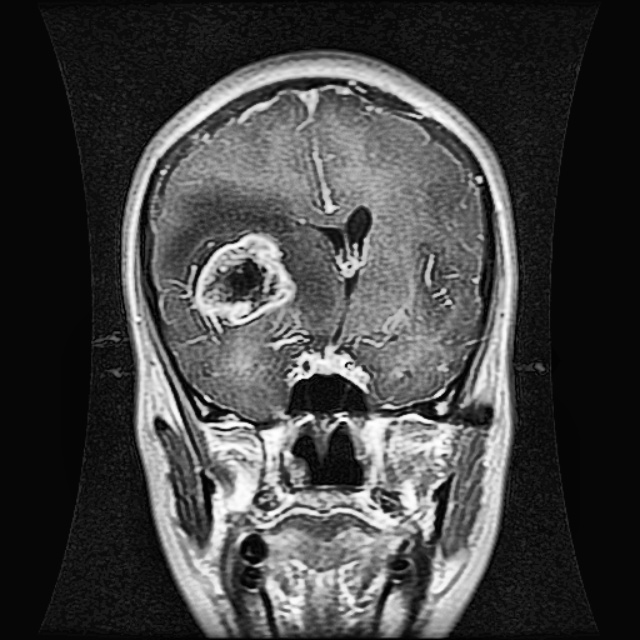Meningioma: (178, 227, 302, 337)
